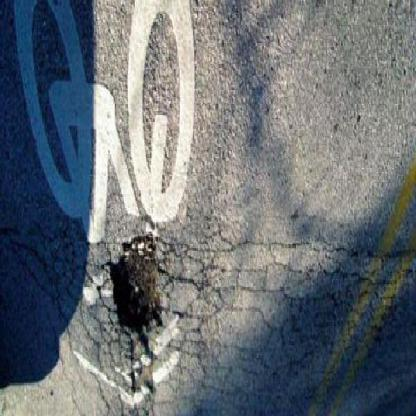pothole: (108, 227, 171, 346)
